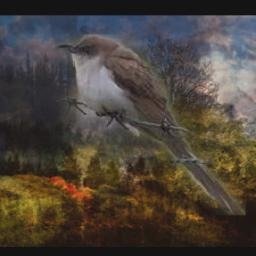Cuckoo: (57, 34, 247, 215)
